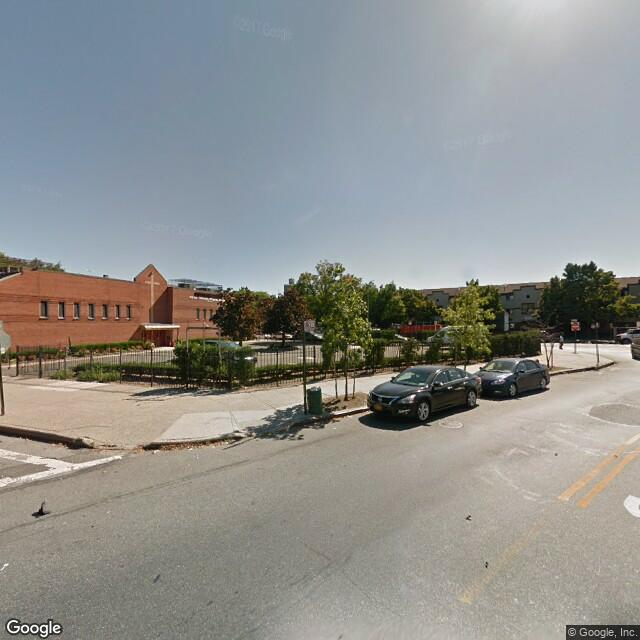litter: (148, 429, 252, 465)
